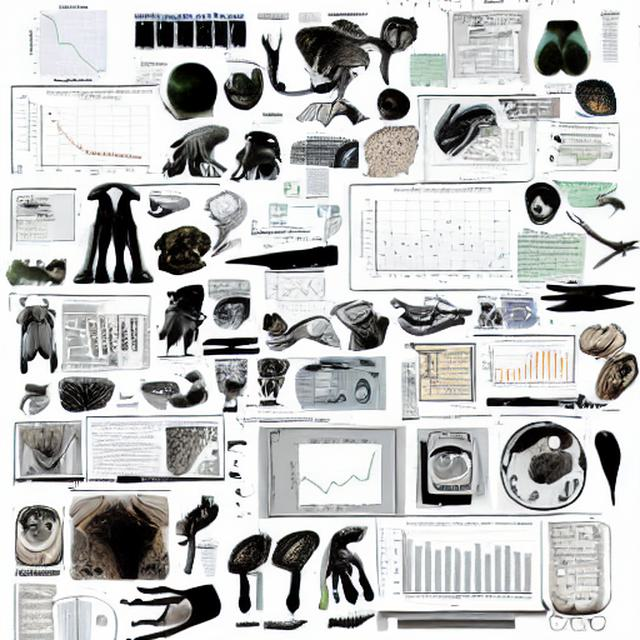Graph: (356, 187, 517, 286), (378, 518, 537, 608), (25, 87, 157, 179), (11, 0, 133, 84), (285, 434, 392, 514), (481, 339, 572, 392), (268, 274, 329, 310)
